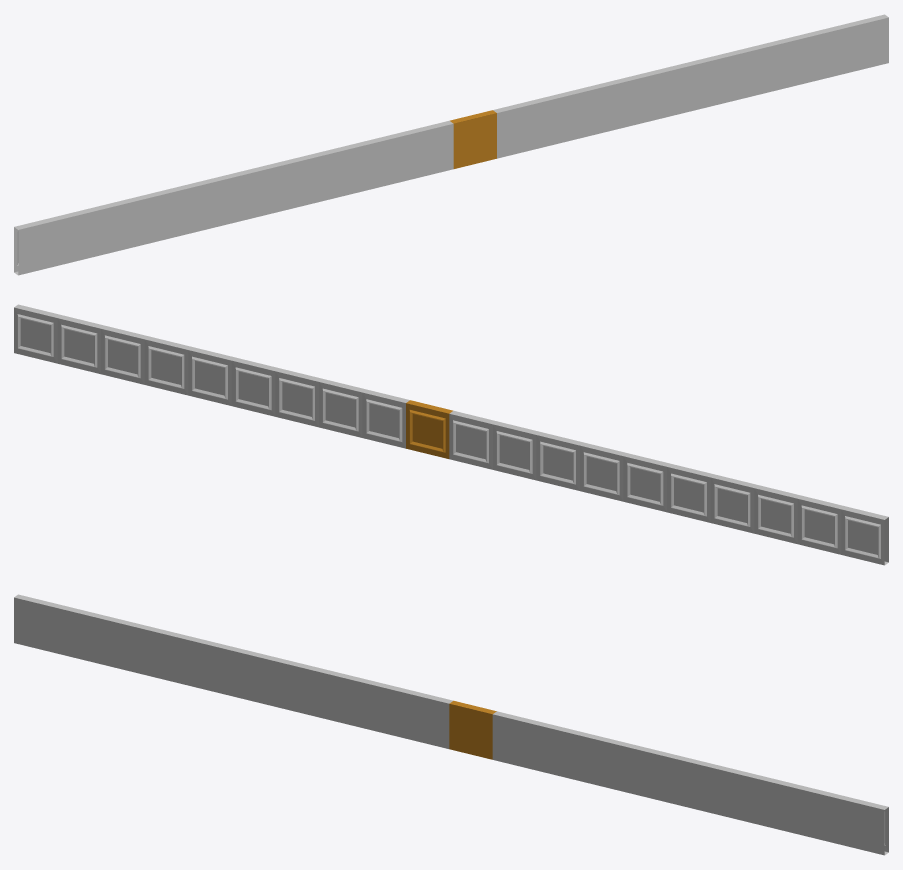
The model's file is spandrel_wall.obj.
The picture shows the model from 3 angles, top to bottom: view 1: azimuth 30°, elevation 25°; view 2: azimuth 150°, elevation 25°; view 3: azimuth 330°, elevation 25°; orthographic projection.
Parts seen in each view (by area): view 1: Cube.002_Cube.005; view 2: Cube.002_Cube.005; view 3: Cube.002_Cube.005.
Part boxes in pixels (bbox=[...]): Cube.002_Cube.005: bbox=[14, 14, 888, 275]; Cube.002_Cube.005: bbox=[14, 304, 888, 565]; Cube.002_Cube.005: bbox=[14, 594, 888, 855].
Size of the model in its own units: 120 by 6 by 1.26.
20 materials, 1 textured.
